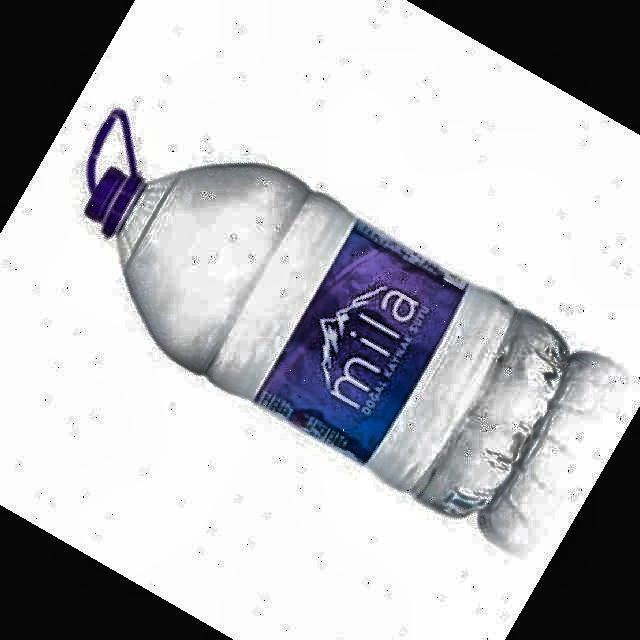plastic: (85, 110, 580, 529)
